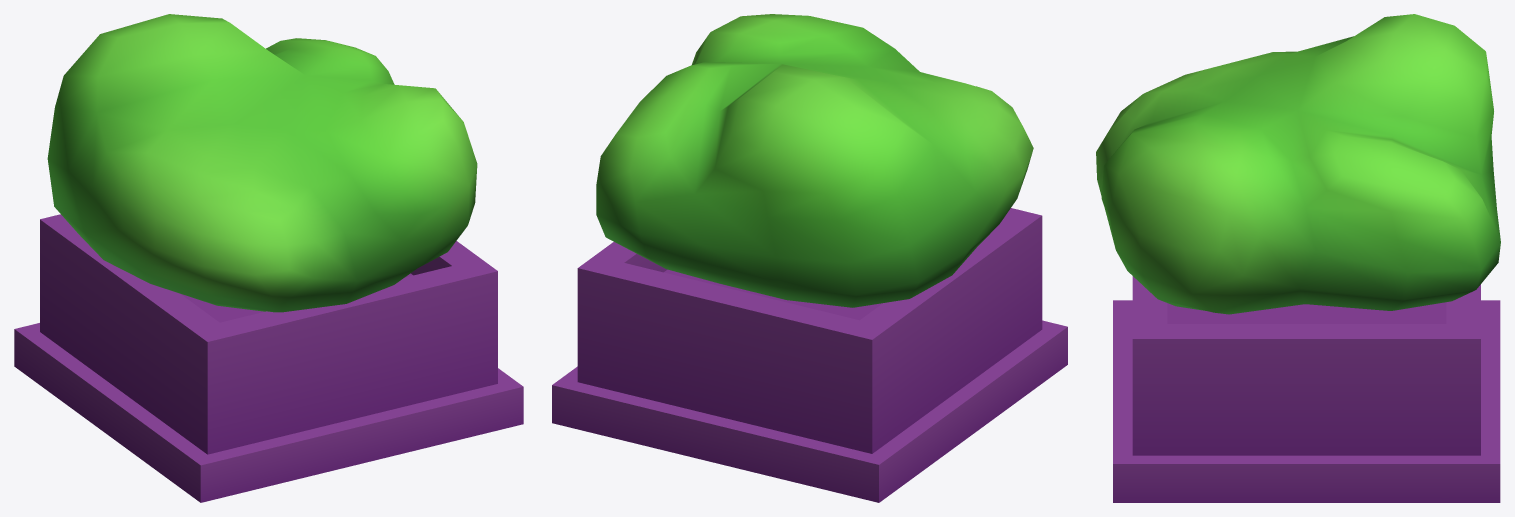
The model's file is Aracde_Plant_1.fbx.
The picture shows the model from 3 angles, left to right: view 1: azimuth 30°, elevation 25°; view 2: azimuth 150°, elevation 25°; view 3: azimuth 270°, elevation 25°; orthographic projection. The views are drawn at different scales.
Parts seen in each view (by area): view 1: Cube.194, Cube.193; view 2: Cube.194, Cube.193; view 3: Cube.194, Cube.193.
Boxes of the visible parts, left/top/right/bottom form: Cube.194: left=47, top=14, right=477, bottom=312; Cube.193: left=14, top=214, right=523, bottom=502; Cube.194: left=596, top=14, right=1033, bottom=307; Cube.193: left=552, top=208, right=1067, bottom=502; Cube.194: left=1096, top=14, right=1500, bottom=314; Cube.193: left=1113, top=276, right=1500, bottom=502.
Bounding box in the file's own units: 93.12 × 93.76 × 94.12.
